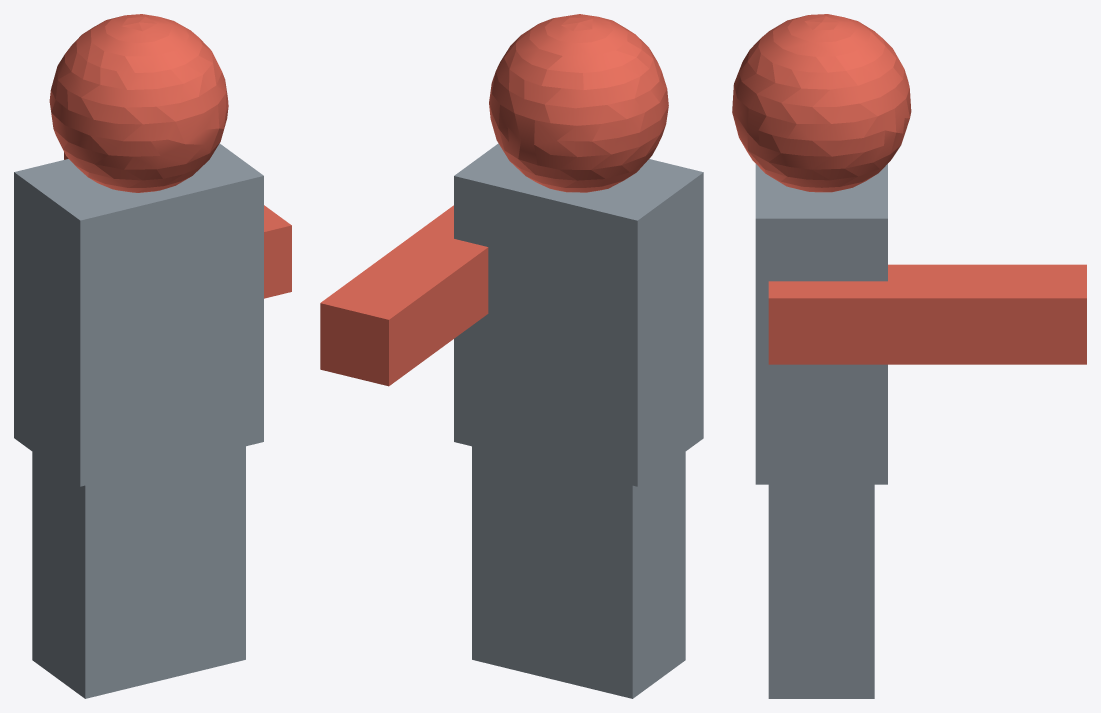
Rendered from SU_ZaslonAATeam_LOD1.glb.
3 views of the same model, side by side, from view 1: azimuth 30°, elevation 25°; view 2: azimuth 150°, elevation 25°; view 3: azimuth 270°, elevation 25° (orthographic).
Visible parts, largest first — view 1: Head; view 2: Head; view 3: Head.
Part boxes in pixels (x1,y1,x2,y2): Head: (14,14,291,698); Head: (320,14,703,698); Head: (732,14,1086,698).
Bounding box in the file's own units: 61.75 × 172 × 86.99.
